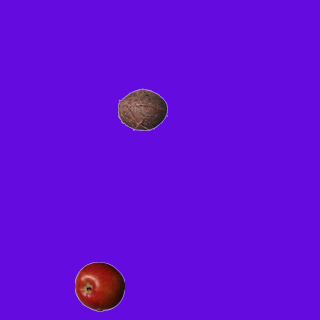Apple Braeburn: (74, 261, 124, 311)
Cocos: (117, 84, 167, 134)
